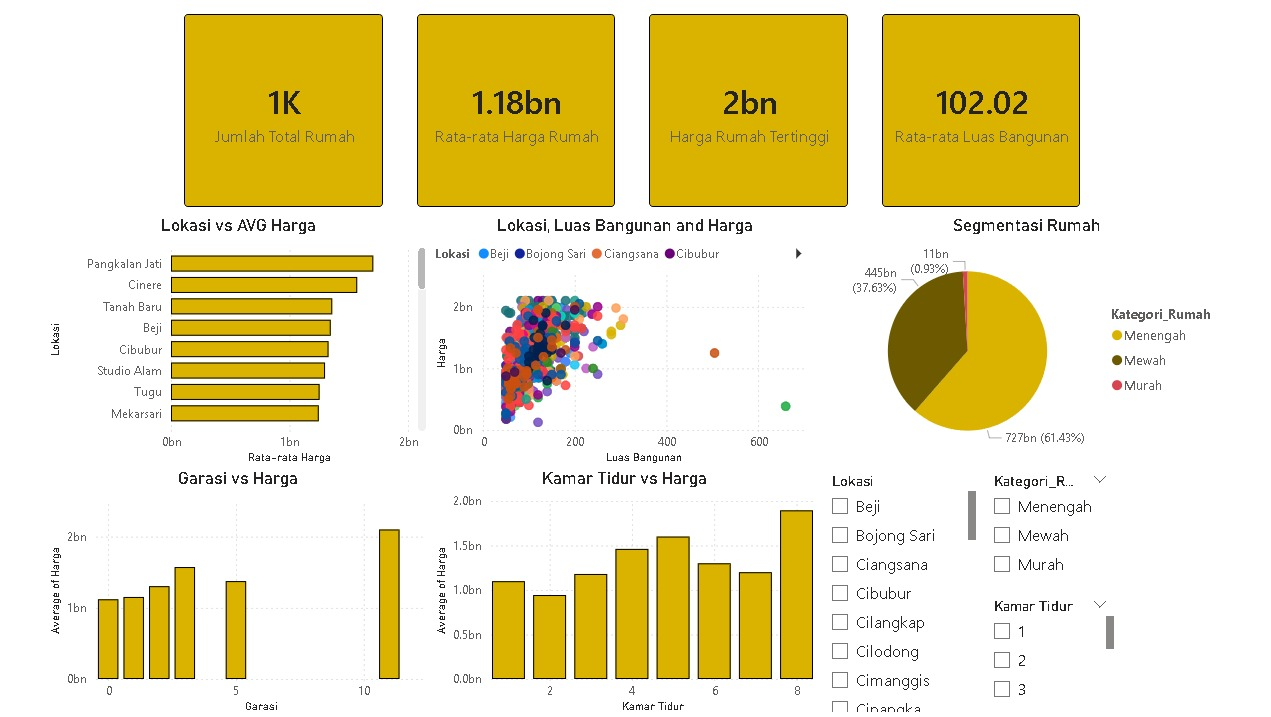

What the dashboard file says about the page in this screenshot:
{"tool":"powerbi","page":{"name":"Page 1","canvas":[1280,720],"ordinal":0},"visuals":[{"type":"cardVisual","fields":{"Data":["CountNonNull(rumah_cleaned.Harga)"]},"box":[168.3,0,232.5,226.6],"z":0},{"type":"cardVisual","fields":{"Data":["Avg(rumah_cleaned.Harga)"]},"box":[400.7,0,232.5,226.6],"z":1000},{"type":"cardVisual","fields":{"Data":["Max(rumah_cleaned.Harga)"]},"box":[633.2,0,232.5,226.6],"z":2000},{"type":"cardVisual","fields":{"Data":["Avg(rumah_cleaned.Luas Bangunan)"]},"box":[865.7,0,232.5,226.6],"z":3000},{"type":"clusteredBarChart","title":"Lokasi vs AVG Harga","fields":{"Category":["rumah_cleaned.Lokasi"],"Y":["Avg(rumah_cleaned.Harga)"]},"box":[46,218,386,253],"z":4000},{"type":"scatterChart","fields":{"X":["rumah_cleaned.Luas Bangunan"],"Y":["rumah_cleaned.Harga"],"Series":["rumah_cleaned.Lokasi"]},"box":[432,218,387,253],"z":5000},{"type":"pieChart","title":"Segmentasi Rumah","fields":{"Category":["rumah_cleaned.Kategori_Rumah"],"Y":["Sum(rumah_cleaned.Harga)"]},"box":[820,218,415,253],"z":5001},{"type":"clusteredColumnChart","title":"Garasi vs Harga","fields":{"Category":["rumah_cleaned.Garasi"],"Y":["Sum(rumah_cleaned.Harga)"]},"box":[46,471,386,249],"z":5002},{"type":"clusteredColumnChart","title":"Kamar Tidur vs Harga","fields":{"Category":["rumah_cleaned.Kamar Tidur"],"Y":["Avg(rumah_cleaned.Harga)"]},"box":[432,471,387,249],"z":5003},{"type":"slicer","fields":{"Values":["rumah_cleaned.Lokasi"]},"box":[820,471,162,249],"z":5004},{"type":"slicer","fields":{"Values":["rumah_cleaned.Kategori_Rumah"]},"box":[982,471,138,133],"z":5005},{"type":"slicer","fields":{"Values":["rumah_cleaned.Kamar Tidur"]},"box":[982,596,138,116],"z":5006}]}

Visuals, with their boxes in screenshot pixels (x1, y1, x2, y2), scaled from the page's 1280x720 canvas onto the 1271x717 screenshot:
cardVisual - CountNonNull(rumah_cleaned.Harga): (left=167, top=0, right=398, bottom=226)
cardVisual - Avg(rumah_cleaned.Harga): (left=398, top=0, right=629, bottom=226)
cardVisual - Max(rumah_cleaned.Harga): (left=629, top=0, right=860, bottom=226)
cardVisual - Avg(rumah_cleaned.Luas Bangunan): (left=860, top=0, right=1090, bottom=226)
"Lokasi vs AVG Harga" clusteredBarChart: (left=46, top=217, right=429, bottom=469)
scatterChart - rumah_cleaned.Luas Bangunan x rumah_cleaned.Harga: (left=429, top=217, right=813, bottom=469)
"Segmentasi Rumah" pieChart: (left=814, top=217, right=1226, bottom=469)
"Garasi vs Harga" clusteredColumnChart: (left=46, top=469, right=429, bottom=716)
"Kamar Tidur vs Harga" clusteredColumnChart: (left=429, top=469, right=813, bottom=716)
slicer - rumah_cleaned.Lokasi: (left=814, top=469, right=975, bottom=716)
slicer - rumah_cleaned.Kategori_Rumah: (left=975, top=469, right=1112, bottom=601)
slicer - rumah_cleaned.Kamar Tidur: (left=975, top=594, right=1112, bottom=709)
